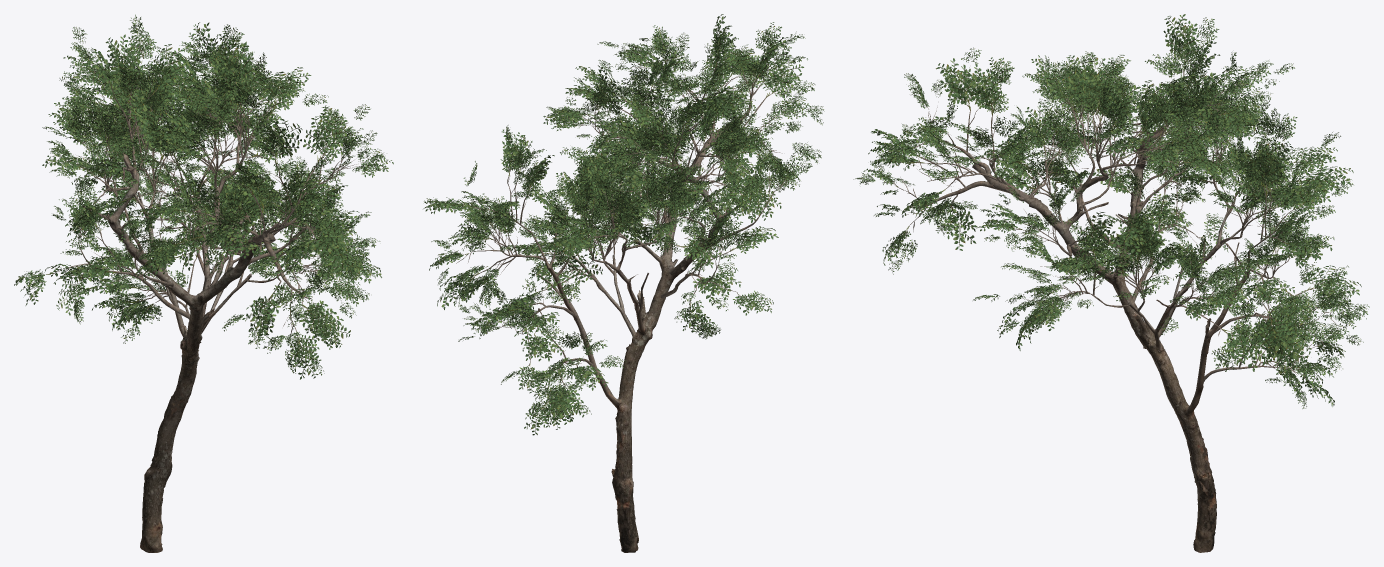
File: tree-small.glb
3 renders of one model, left to right at view 1: azimuth 30°, elevation 25°; view 2: azimuth 150°, elevation 25°; view 3: azimuth 270°, elevation 25°, orthographic. The views are drawn at different scales.
Visible parts, largest first — view 1: tree_small_02_LOD0; view 2: tree_small_02_LOD0; view 3: tree_small_02_LOD0.
Boxes of the visible parts, left/top/right/bottom form: tree_small_02_LOD0: left=14, top=14, right=393, bottom=552; tree_small_02_LOD0: left=423, top=14, right=824, bottom=552; tree_small_02_LOD0: left=853, top=14, right=1369, bottom=552.
Size of the model in its own units: 2.92 by 4.56 by 4.29.
3 materials, 3 textured.
